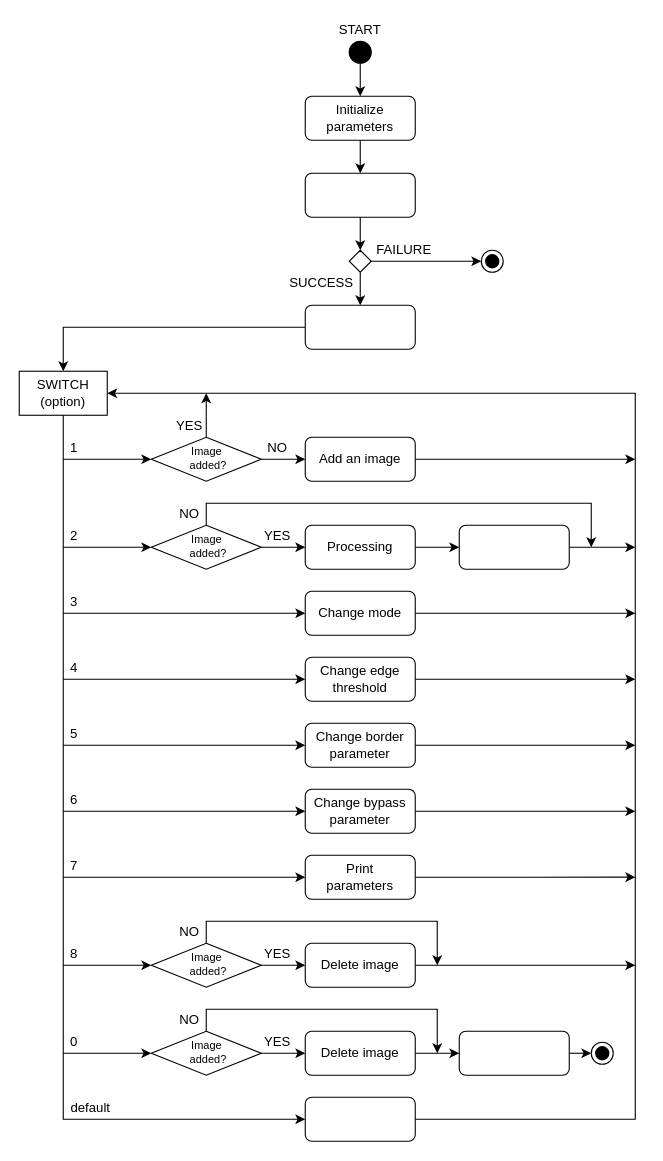
This 663x1161 diagram has some shape labels left out. The centre of each missing label's shape, as x and y in pixels:
"Choose an option" goes at point (359, 326).
"Hardware configuration" goes at point (359, 194).
"Option doesn't exist" goes at point (359, 1118).
"Save processed images" goes at point (513, 546).
"Unmount SD card" goes at point (513, 1052).
